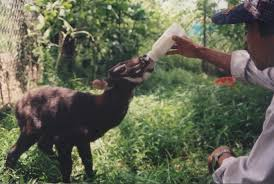sao_la: (6, 53, 149, 179)
